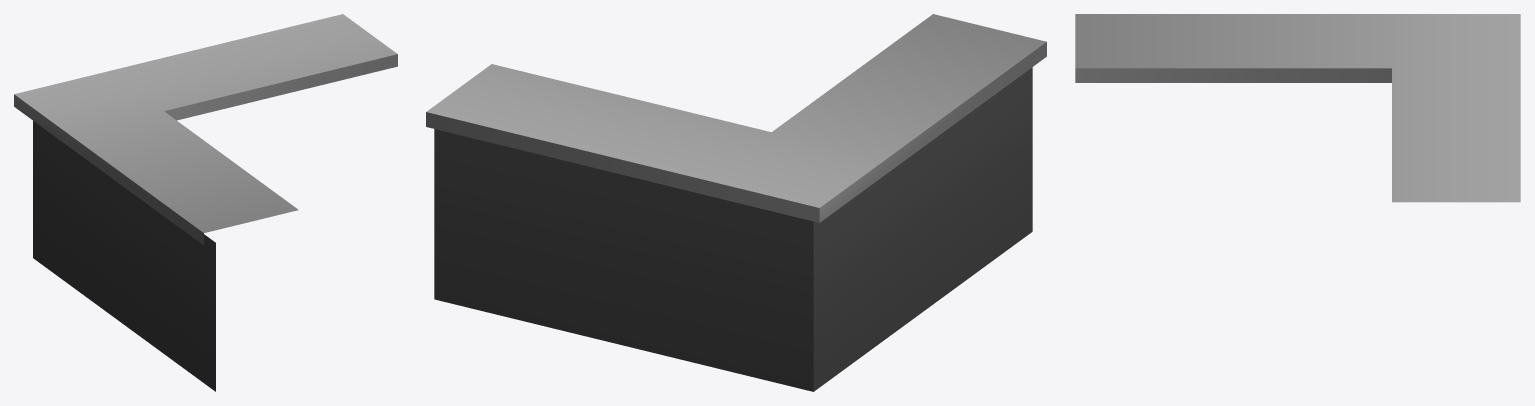
Rendered from Retainning_Wall_1_Side_Corner_R.glb.
3 views of the same model, side by side, from view 1: azimuth 30°, elevation 25°; view 2: azimuth 150°, elevation 25°; view 3: azimuth 270°, elevation 25° (orthographic). The views are drawn at different scales.
Parts seen in each view (by area): view 1: _6f170d57a6d4995a9b0e5f6b03bd793_obj_cleaner_materialmerger_; view 2: _6f170d57a6d4995a9b0e5f6b03bd793_obj_cleaner_materialmerger_; view 3: _6f170d57a6d4995a9b0e5f6b03bd793_obj_cleaner_materialmerger_.
Part boxes in pixels (x1,y1,x2,y2): _6f170d57a6d4995a9b0e5f6b03bd793_obj_cleaner_materialmerger_: [14, 14, 397, 391]; _6f170d57a6d4995a9b0e5f6b03bd793_obj_cleaner_materialmerger_: [426, 14, 1046, 391]; _6f170d57a6d4995a9b0e5f6b03bd793_obj_cleaner_materialmerger_: [1075, 14, 1520, 202].
Size of the model in its own units: 141 by 66.05 by 141.
Materials: 1 (1 with a texture image).
